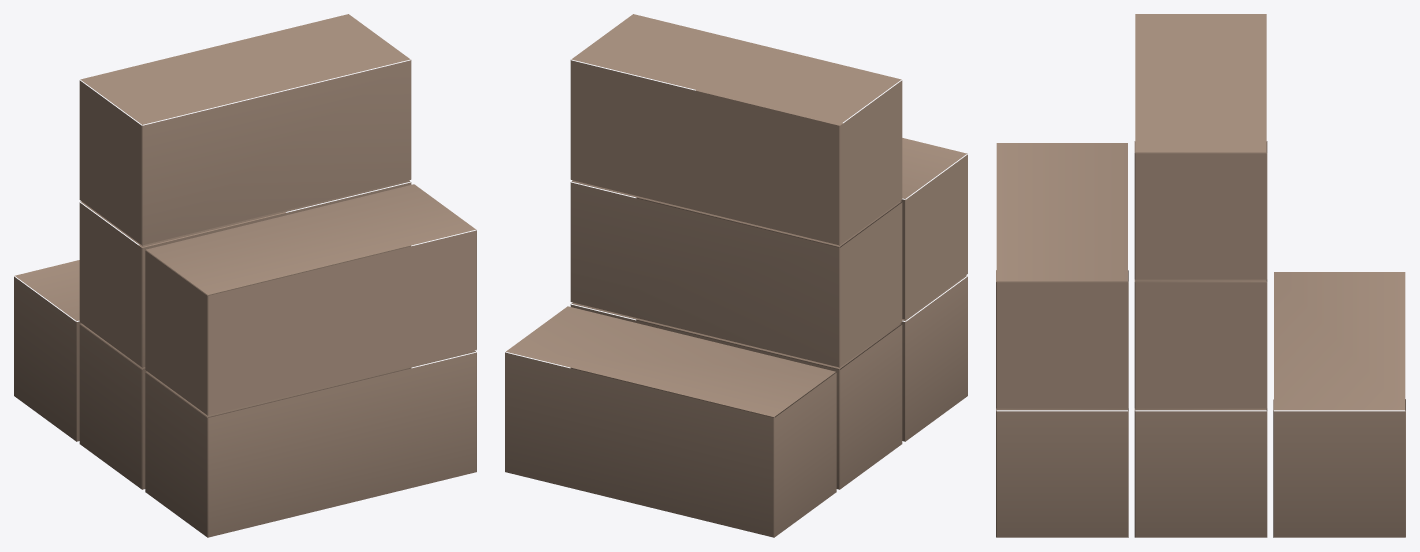
The model's file is container_stack.glb.
The picture shows the model from 3 angles, left to right: view 1: azimuth 30°, elevation 25°; view 2: azimuth 150°, elevation 25°; view 3: azimuth 270°, elevation 25°; orthographic projection. The views are drawn at different scales.
Parts seen in each view (by area): view 1: props_container_stack; view 2: props_container_stack; view 3: props_container_stack.
Boxes of the visible parts, box(x1,y1,x2,y2) form: props_container_stack: box(14, 14, 476, 537); props_container_stack: box(505, 14, 967, 537); props_container_stack: box(996, 14, 1405, 537).
Bounding box in the file's own units: 6.05 × 7.83 × 7.54.
